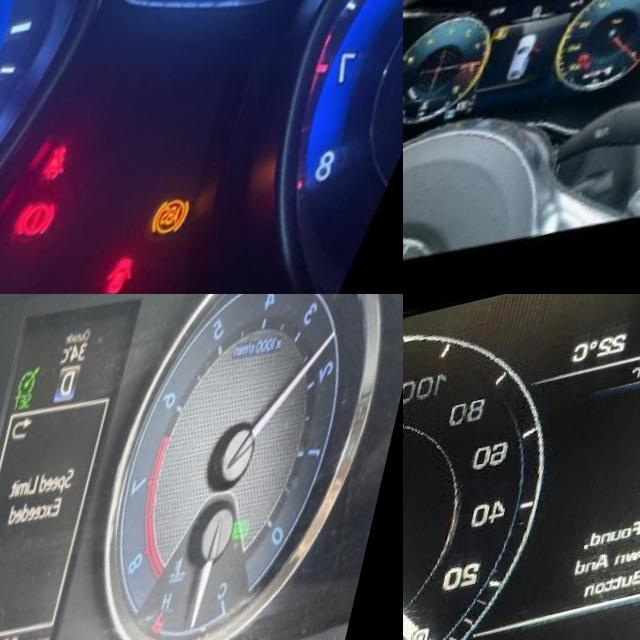Doors: (115, 259, 173, 294)
Engine cooling system: (439, 97, 453, 112)
